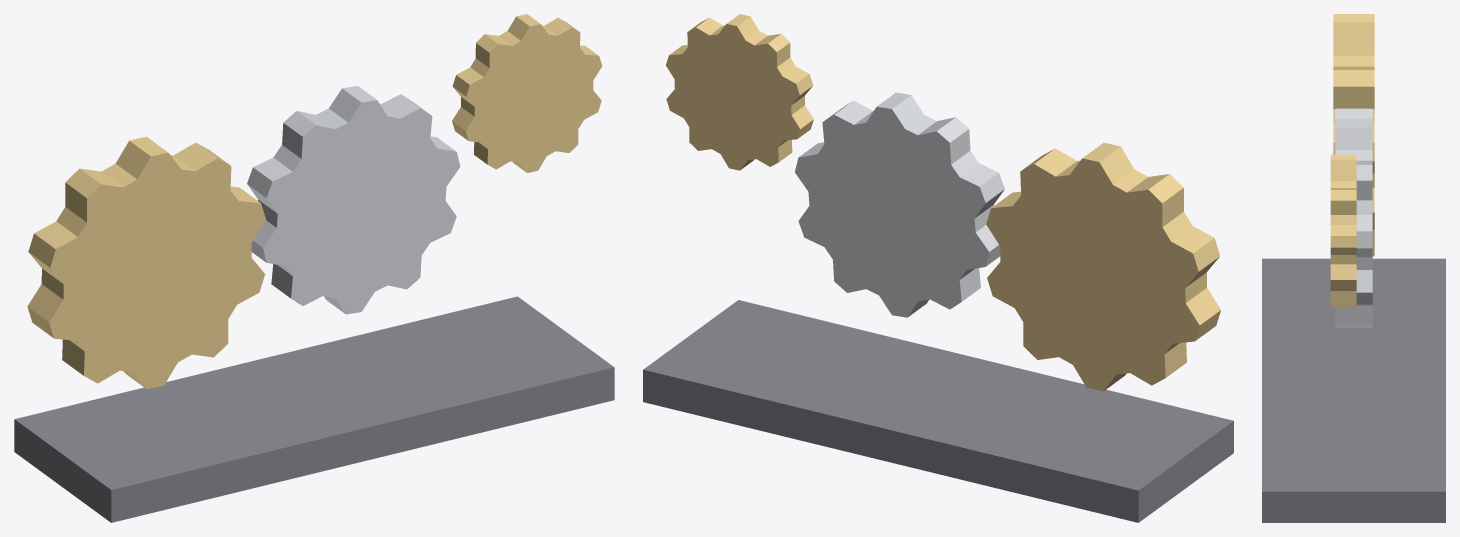
Rendered from gears.fbx.
3 views of the same model, side by side, from view 1: azimuth 30°, elevation 25°; view 2: azimuth 150°, elevation 25°; view 3: azimuth 270°, elevation 25° (orthographic). The views are drawn at different scales.
Parts seen in each view (by area): view 1: Base, Gear1, Gear2, Gear3; view 2: Base, Gear1, Gear2, Gear3; view 3: Base, Gear2, Gear1, Gear3.
Part boxes in pixels (<box>): Base: <box>14,296,614,522</box>; Gear1: <box>27,136,265,389</box>; Gear2: <box>247,86,460,314</box>; Gear3: <box>452,14,602,172</box>; Base: <box>643,300,1233,522</box>; Gear1: <box>986,142,1220,391</box>; Gear2: <box>795,92,1004,317</box>; Gear3: <box>666,14,813,170</box>; Base: <box>1262,258,1445,522</box>; Gear2: <box>1335,108,1372,327</box>; Gear1: <box>1333,14,1374,256</box>; Gear3: <box>1330,154,1356,307</box>.
Bounding box in the file's own units: 263 × 164 × 80.
